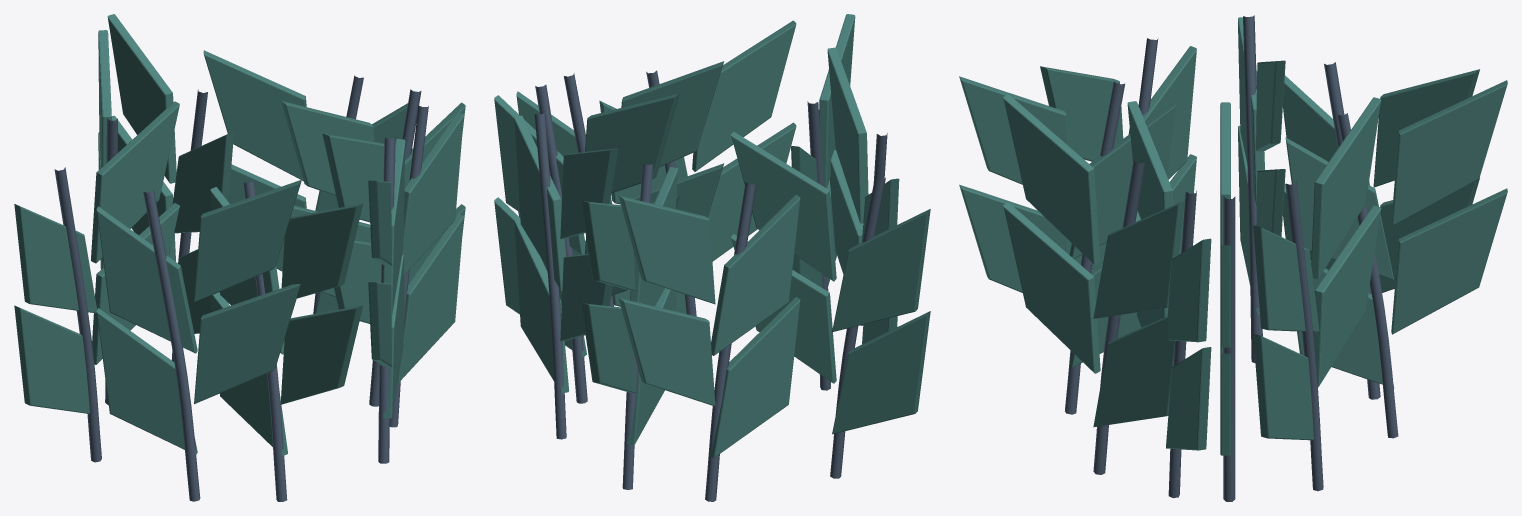
The model's file is moonsteel-convergence-concealment-reeds-b9d91bd9__18193.glb.
The picture shows the model from 3 angles, left to right: view 1: azimuth 30°, elevation 25°; view 2: azimuth 150°, elevation 25°; view 3: azimuth 270°, elevation 25°; orthographic projection. The views are drawn at different scales.
Visible parts, largest first — view 1: concealment-reeds; view 2: concealment-reeds; view 3: concealment-reeds.
Part boxes in pixels (left/top/right/bottom): concealment-reeds: left=14, top=14, right=465, bottom=501; concealment-reeds: left=494, top=14, right=930, bottom=501; concealment-reeds: left=959, top=15, right=1507, bottom=501.
Size of the model in its own units: 1.81 by 1.29 by 1.84.
